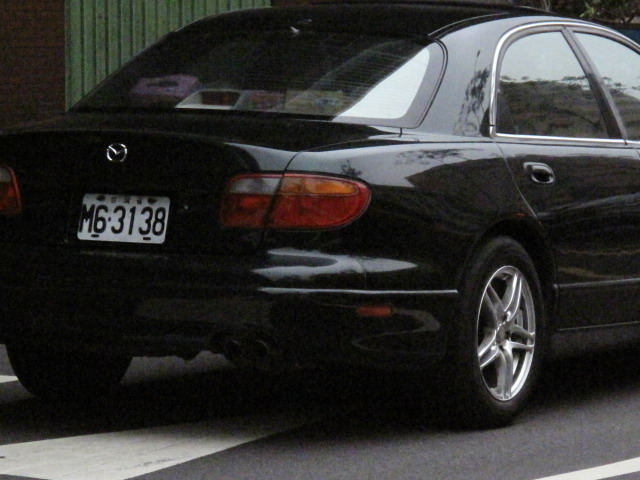plate: (76, 189, 171, 248)
